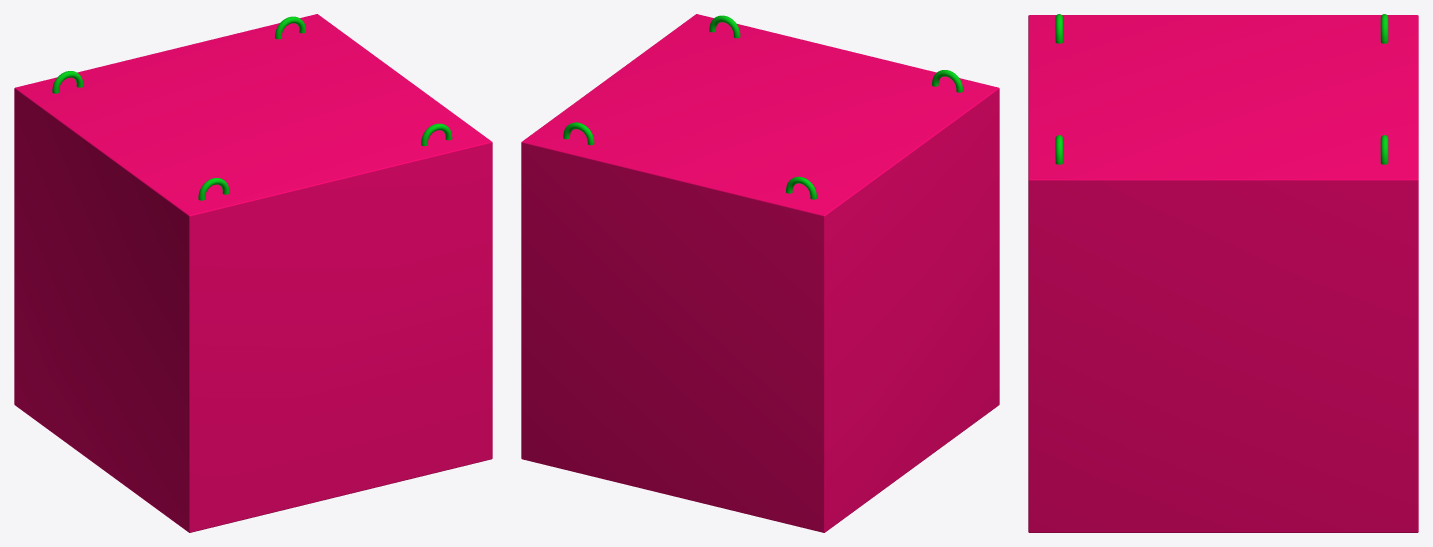
The model's file is Block.FBX.
The picture shows the model from 3 angles, left to right: view 1: azimuth 30°, elevation 25°; view 2: azimuth 150°, elevation 25°; view 3: azimuth 270°, elevation 25°; orthographic projection. The views are drawn at different scales.
Parts seen in each view (by area): view 1: Box004; view 2: Box004; view 3: Box004.
Part boxes in pixels (x1,y1,x2,y2): Box004: [14, 14, 492, 532]; Box004: [521, 14, 999, 532]; Box004: [1028, 14, 1418, 532].
Size of the model in its own units: 39.37 by 41.58 by 39.37.
